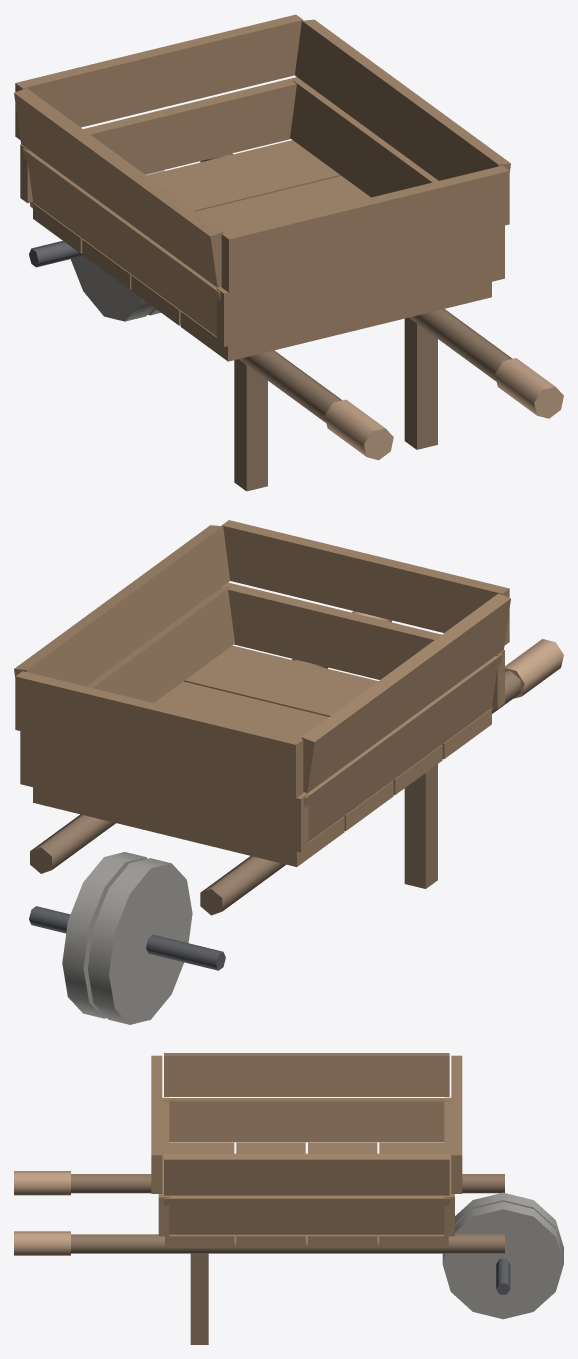
File: build_wheelbarrow.glb
The picture shows the model from 3 angles, top to bottom: view 1: azimuth 30°, elevation 25°; view 2: azimuth 150°, elevation 25°; view 3: azimuth 270°, elevation 25°; orthographic projection. The views are drawn at different scales.
Parts seen in each view (by area): view 1: Baked; view 2: Baked; view 3: Baked.
Part boxes in pixels (x1,y1,x2,y2): Baked: (14, 14, 563, 491); Baked: (14, 520, 563, 1024); Baked: (14, 1053, 563, 1344).
Bounding box in the file's own units: 0.7064 × 0.6365 × 1.54.
